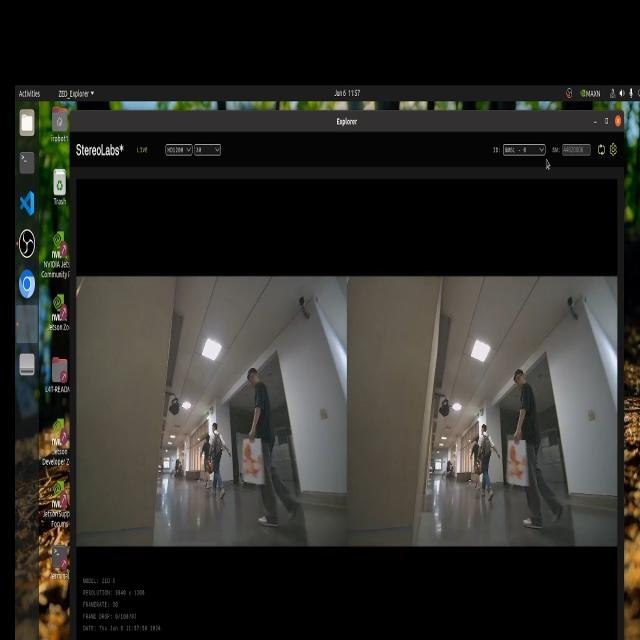red: (507, 443, 531, 489), (242, 443, 264, 485)
